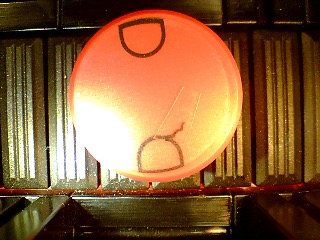CRACK: (68, 9, 244, 184)
